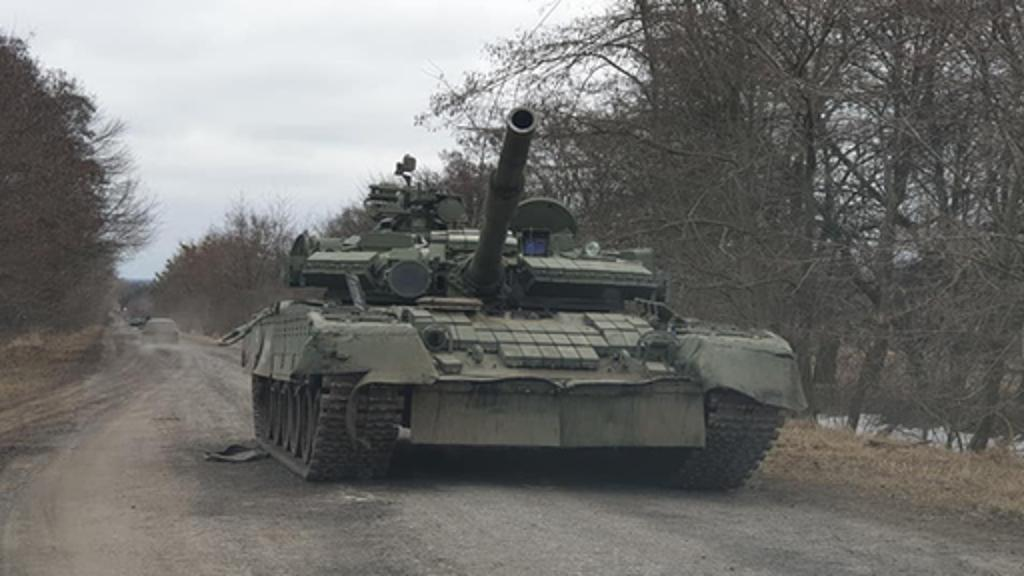CAR: (138, 316, 184, 344)
TANK: (236, 98, 800, 506)
